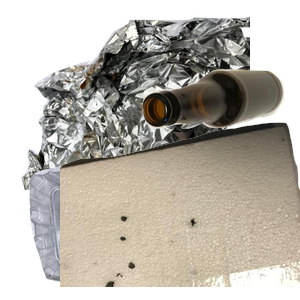glass: (140, 67, 300, 188)
metal: (19, 14, 259, 194)
plastic: (27, 152, 247, 300)
trash: (60, 120, 300, 300)
